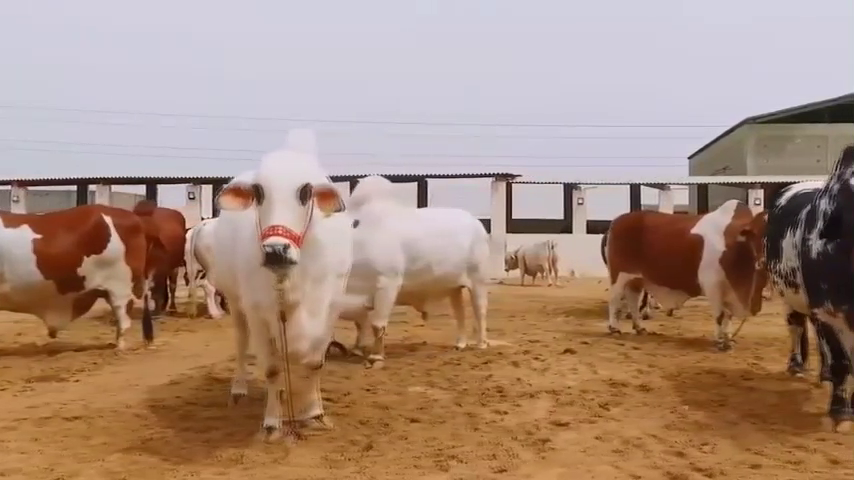bo: (205, 117, 349, 457), (334, 170, 496, 381), (594, 194, 770, 352), (766, 144, 854, 444), (2, 200, 155, 364), (182, 216, 240, 336), (144, 186, 187, 319), (500, 229, 566, 299)
